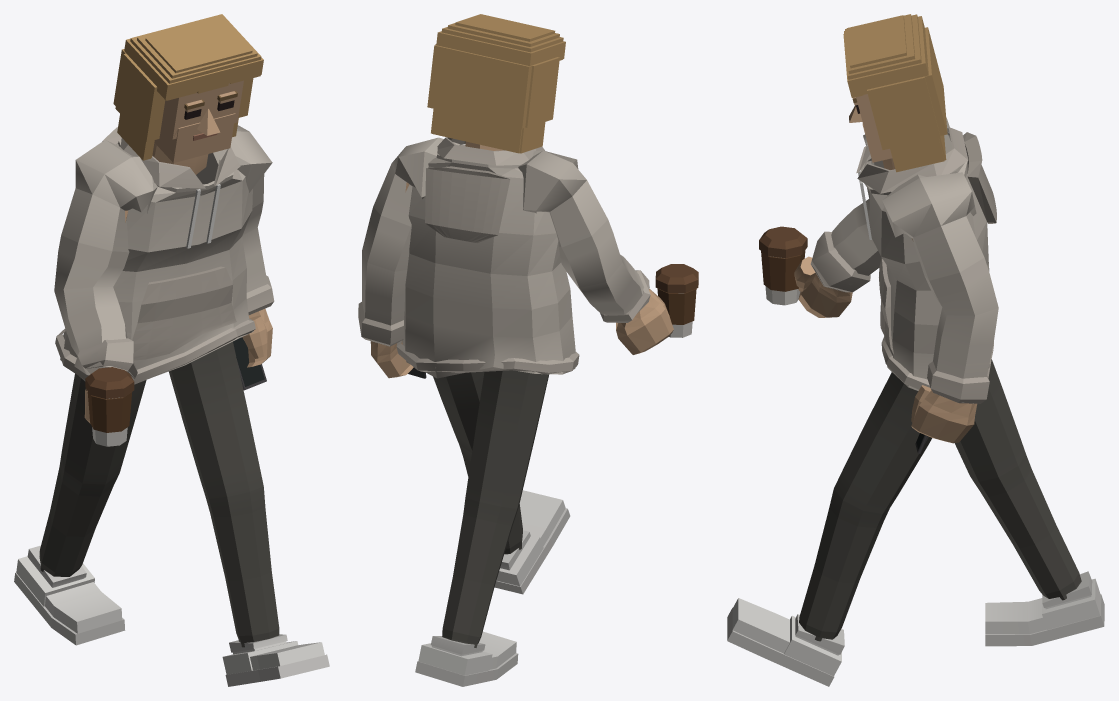
File: student-in-a-hoodie-7c8223__walk0.glb
The picture shows the model from 3 angles, left to right: view 1: azimuth 30°, elevation 25°; view 2: azimuth 150°, elevation 25°; view 3: azimuth 270°, elevation 25°; orthographic projection. The views are drawn at different scales.
Parts seen in each view (by area): view 1: student-in-a-hoodie-7c8223__walk0; view 2: student-in-a-hoodie-7c8223__walk0; view 3: student-in-a-hoodie-7c8223__walk0.
Boxes of the visible parts, left/top/right/bottom form: student-in-a-hoodie-7c8223__walk0: left=14, top=14, right=329, bottom=686; student-in-a-hoodie-7c8223__walk0: left=358, top=14, right=698, bottom=686; student-in-a-hoodie-7c8223__walk0: left=727, top=14, right=1104, bottom=686.
Bounding box in the file's own units: 0.77 × 1.71 × 0.9332.
